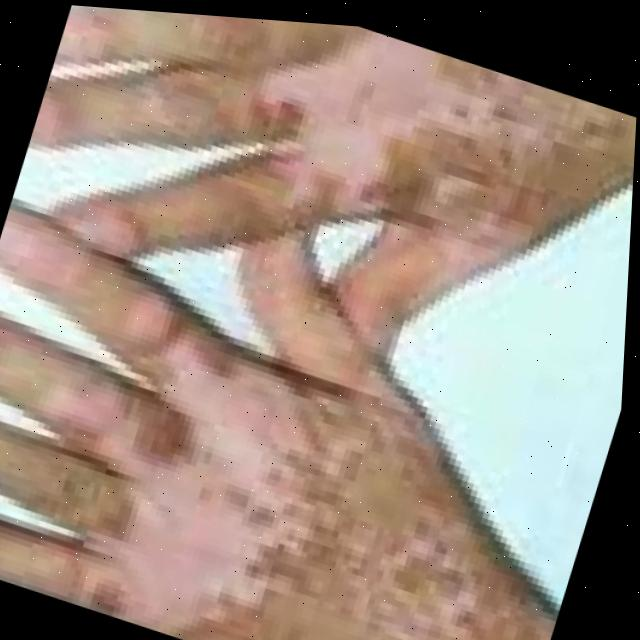Melasma: (0, 256, 580, 640), (160, 13, 598, 281)
